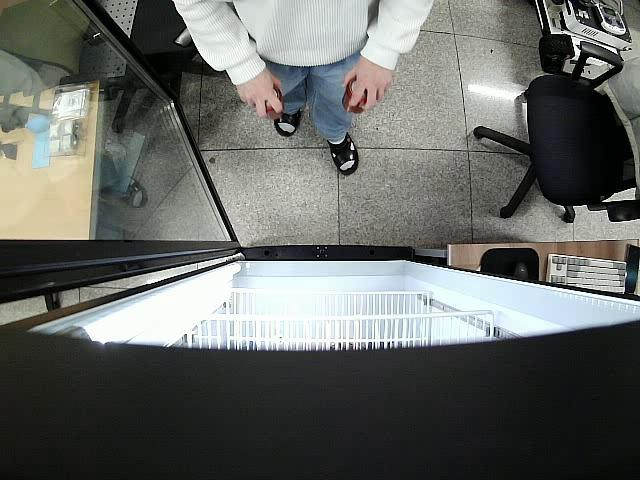11_cocaColaZero: (342, 79, 368, 114), (258, 85, 282, 120)
